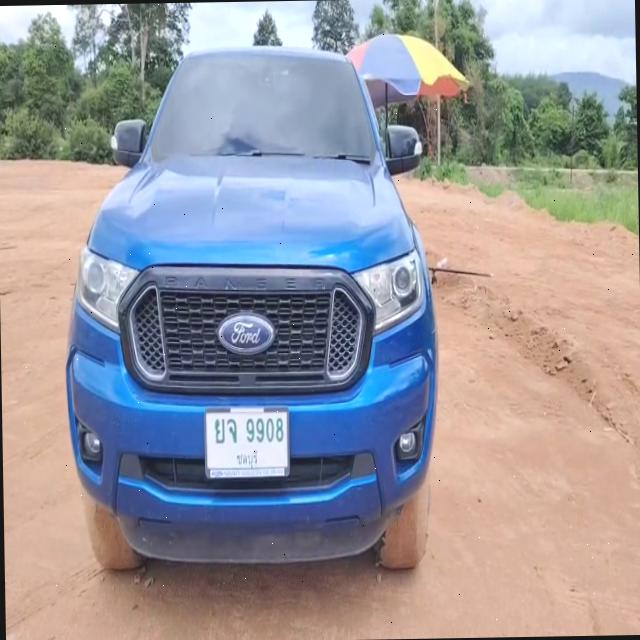Digit: (245, 416, 286, 446)
Licenseplate: (204, 405, 290, 476)
Provincename: (235, 448, 258, 468)
Thaichar: (215, 416, 238, 446)
